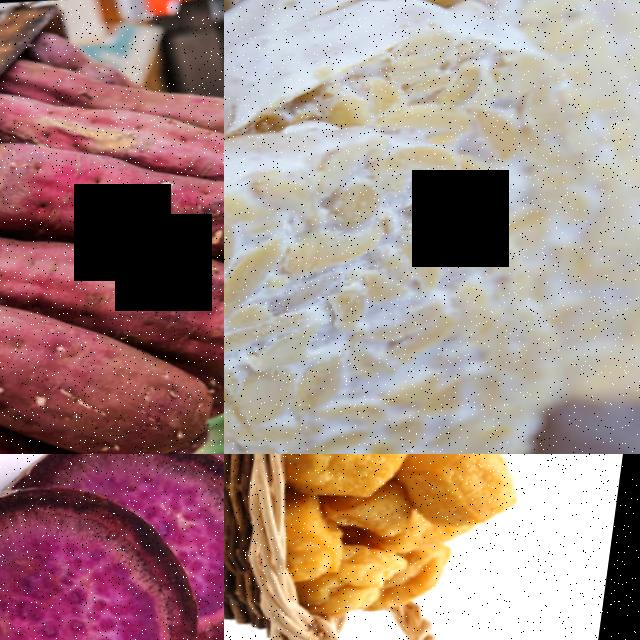sweet potato: (0, 454, 224, 640), (0, 319, 224, 454), (61, 213, 224, 387), (0, 121, 116, 242), (0, 198, 66, 314), (0, 266, 50, 404)
tempeh: (224, 90, 624, 454), (224, 0, 583, 148)
tofu: (412, 454, 533, 527), (289, 492, 368, 579), (286, 454, 428, 500)
